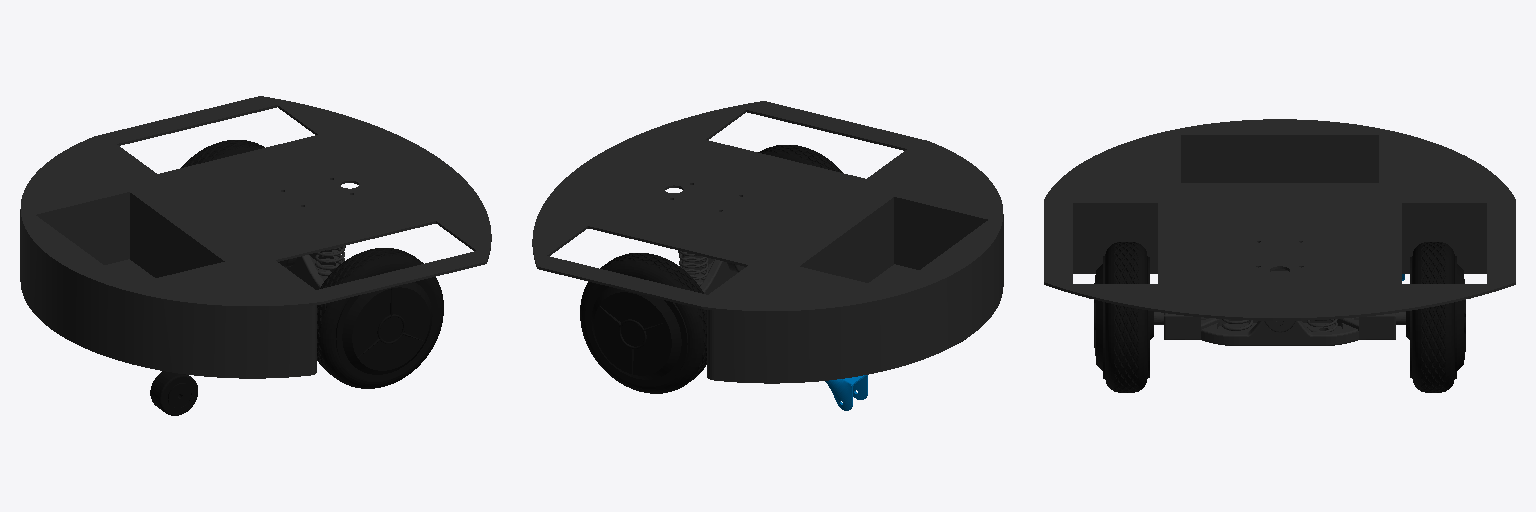
robot.urdf — Bobert:
<?xml version='1.0' ?>
<robot name="Bobert">

    <material name="grey">
        <color rgba="0.2 0.2 0.2 1"/>
    </material>

    <material name="green">
        <color rgba="0 0.6 0 0.7"/>
    </material>
    
    <material name="white">
        <color rgba="1 1 1 0.7"/>
    </material>

    <material name="Black">
        <color rgba="0.1 0.1 0.1 1"/>
    </material>

    
    <material name="orange">
        <color rgba="1 0.38 0.27 1"/>
    </material>


    <link name="base_link">
        <inertial>
            <origin xyz="-43.547e-03 -0.033e-03 -46.787e-03" rpy="0.0 0.0 0.0" />
            <mass value="11.793993" />
            <inertia ixx="1.697e-01" iyy="1.958e-01" izz="3.335e-01" ixy="49603.106e-9" iyz="-836.534e-09" ixz="-1.095e-02" />
        </inertial>
        <visual name="base_link_visual">
            <origin xyz="0.0 0.0 0.0" rpy="0.0 0.0 0.0" />
            <geometry>
                <mesh filename="../meshes/base_link.stl" scale="0.001 0.001 0.001" />
            </geometry>
            <material name="grey"/>
        </visual>
        <collision name="base_link_collision">
            <origin xyz="0.0 0.0 0.0" rpy="0.0 0.0 0.0" />
            <geometry>
                <mesh filename="../meshes/base_link.stl" scale="0.001 0.001 0.001" />
            </geometry>
        </collision>
    </link>


    <link name="wheel_left">
        <inertial>
            <origin xyz="0 0 -1.819e-03" rpy="0.0 -0.0 0.0" />
            <mass value="2911.821e-3" />
            <inertia ixx="3.948e-03" iyy="3.948e-03" izz="6.576e-03" ixy="-21.63e-09" iyz="0.131e-09" ixz="-0.705e-09" />
        </inertial>
        <visual name="wheel_left_visual">
            <origin xyz="0 0 0" rpy="0 0 0" />
            <geometry>
                <mesh filename="../meshes/wheel_left.stl" scale="0.001 0.001 0.001" />
            </geometry>
            <material name="Black"/>
        </visual>
        <collision name="wheel_left_collision">
            <origin xyz="0 0 0" rpy="0 0 0" />
            <geometry>
                <mesh filename="../meshes/wheel_left.stl" scale="0.001 0.001 0.001" />
            </geometry>
        </collision>
    </link>

    <link name="wheel_rigth">
        <inertial>
            <origin xyz="0 0 1.819e-3" rpy="0.0 -0.0 0.0" />
            <mass value="2.91188" />
            <inertia ixx="3.948e-03" iyy="3.948e-03" izz="6.576e-03" ixy="-11.421e-09" iyz="10.676e-09" ixz="9.896e-09" />
        </inertial>
        <visual name="wheel_rigth_visual">
            <origin xyz="0 0 0" rpy="0 0 0" />
            <geometry>
                <mesh filename="../meshes/wheel_rigth.stl" scale="0.001 0.001 0.001" />
            </geometry>
            <material name="Black"/>
        </visual>
        <collision name="wheel_rigth_collision">
            <origin xyz="0 0 0" rpy="0 0 0" />
            <geometry>
                <mesh filename="../meshes/wheel_rigth.stl" scale="0.001 0.001 0.001" />
            </geometry>
        </collision>
    </link>   
    
    <link name="rotatori_suport_left">
        <inertial>
            <origin xyz="16.428e-03 0 21.621e-03" rpy="0.0 -0.0 0.0" />
            <mass value="43.579e-03" />
            <inertia ixx="17929.773e-09" iyy="18956.841e-09" izz="23058.383e-09" ixy="-1.053e-09" iyz="0.047e-09" ixz="-5350.102e-09" />
        </inertial>
        <visual name="rotatori_suport_left_visual">
            <origin xyz="0 0 0" rpy="0 0 0" />
            <geometry>
                <mesh filename="../meshes/rotatory_suport_left.stl" scale="0.001 0.001 0.001" />
            </geometry>
        </visual>
        <collision name="rotatori_suport_left_collision">
            <origin xyz="0 0 0" rpy="0 0 0" />
            <geometry>
                <mesh filename="../meshes/rotatory_suport_left.stl" scale="0.001 0.001 0.001" />
            </geometry>
        </collision>
    </link> 

    <link name="rotatori_suport_rigth">
        <inertial>
            <origin xyz="16.428e-03 0 21.621e-03" rpy="0.0 0 0.0" />
            <mass value="43.579e-03" />
            <inertia ixx="17929.773e-09" iyy="18956.841e-09" izz="23058.383e-09" ixy="-1.053e-09" iyz="0.047e-09" ixz="-5350.102e-09" />
        </inertial>
        <visual name="rotatori_suport_rigth_visual">
            <origin xyz="0 0 0" rpy="0 0 0" />
            <geometry>
                <mesh filename="../meshes/rotatory_suport_rigth.stl" scale="0.001 0.001 0.001" />
            </geometry>
        </visual>
        <collision name="rotatori_suport_rigth_collision">
            <origin xyz="0 0 0" rpy="0 0 0" />
            <geometry>
                <mesh filename="../meshes/rotatory_suport_rigth.stl" scale="0.001 0.001 0.001" />
            </geometry>
        </collision>
    </link>


     <link name="road_left">
        <inertial>
            <origin xyz="0 0 0" rpy="0.0 -0.0 0.0" />
            <mass value="82.503e-03" />
            <inertia ixx="13380.147e-09" iyy="13380.149e-09" izz="17712.794" ixy="0" iyz="0" ixz="0" />
        </inertial>
        <visual name="road_left_visual">
            <origin xyz="0 0 0" rpy="0 0 0" />
            <geometry>
                <mesh filename="../meshes/road_left.stl" scale="0.001 0.001 0.001" />
            </geometry>
            <material name="Black"/>
        </visual>
        <collision name="road_left_collision">
            <origin xyz="0 0 0" rpy="0 0 0" />
            <geometry>
                <mesh filename="../meshes/road_left.stl" scale="0.001 0.001 0.001" />
            </geometry>
        </collision>
    </link>


    <link name="road_rigth">
        <inertial>
            <origin xyz="0 0 0" rpy="0.0 -0.0 0.0" />
            <mass value="82.503e-03" />
            <inertia ixx="13380.147e-09" iyy="13380.149e-09" izz="17712.794" ixy="0" iyz="0" ixz="0" />
        </inertial>
        <visual name="road_rigth_visual">
            <origin xyz="0 0 0" rpy="0 0 0" />
            <geometry>
                <mesh filename="../meshes/road_rigth.stl" scale="0.001 0.001 0.001" />
            </geometry>
            <material name="Black"/>
        </visual>
        <collision name="road_rigth_collision">
            <origin xyz="0 0 0" rpy="0 0 0" />
            <geometry>
                <mesh filename="../meshes/road_rigth.stl" scale="0.001 0.001 0.001" />
            </geometry>
        </collision>
    </link>




    <joint name="base_link_wheel_left_joint" type="continuous">
        <origin xyz="69.75e-03 -163.00e-03 -83.008e-3" rpy="-1.5707963267948968 0 0" />
        <parent link="base_link" />
        <child link="wheel_left" />
        <axis xyz="0 0 1" />
    </joint>

    <joint name="base_link_wheel_rigth_joint" type="continuous">
        <origin xyz="69.75e-03 163.00e-03 -83.008e-3" rpy="-1.5707963267948968 0 0" />
        <parent link="base_link" />
        <child link="wheel_rigth" />
        <axis xyz="0 0 1" />
    </joint>

    <joint name="base_link_rotatori_suport_left_joint" type="continuous">
        <origin xyz="-135e-03 -115e-03 -93e-03" rpy="0 3.141592653589793 0" />
        <parent link="base_link" />
        <child link="rotatori_suport_left" />
        <axis xyz="0 0 1" />
    </joint>

    <joint name="base_link_rotatori_suport_rigth_joint" type="continuous">
        <origin xyz="-135e-03 115e-03 -93e-03" rpy="0 3.141592653589793 0" />
        <parent link="base_link" />
        <child link="rotatori_suport_rigth" />
        <axis xyz="0 0 1" />
    </joint>

    <joint name="base_link_road_left_joint" type="continuous">
        <origin xyz="25e-03 0 45.5e-03" rpy="-1.5707963267948968 3.141592653589793 0" />
        <parent link="rotatori_suport_left" />
        <child link="road_left" />
        <axis xyz="0 0 1" />
    </joint>

    <joint name="base_link_road_rigth_joint" type="continuous">
        <origin xyz="25e-03 0 45.5e-03" rpy="-1.5707963267948968 3.141592653589793 0" />
        <parent link="rotatori_suport_rigth" />
        <child link="road_rigth" />
        <axis xyz="0 0 1" />
    </joint>


</robot>

--- Render facts (derived) ---
3 views of the same robot in one strip: view 1: azimuth 30°, elevation 25°; view 2: azimuth 150°, elevation 25°; view 3: azimuth 270°, elevation 25° (orthographic).
Robot: Bobert — 7 links, 6 joints (6 continuous); root link base_link; default pose: all joints at 0.
Links seen in each view (by area): view 1: base_link, wheel_left, road_left, wheel_rigth; view 2: base_link, wheel_rigth, wheel_left, rotatori_suport_rigth; view 3: base_link, wheel_rigth, wheel_left.
Link boxes in pixels (box(x1,y1,x2,y2)): base_link: box(20, 96, 491, 378); wheel_left: box(317, 248, 443, 388); road_left: box(150, 371, 197, 415); wheel_rigth: box(181, 140, 264, 167); base_link: box(532, 101, 1003, 383); wheel_rigth: box(580, 253, 706, 393); wheel_left: box(758, 145, 842, 172); rotatori_suport_rigth: box(825, 375, 867, 410); base_link: box(1044, 119, 1515, 345); wheel_rigth: box(1406, 242, 1465, 392); wheel_left: box(1094, 242, 1153, 392).
Bounding box of the posed robot: 0.4999 × 0.5 × 0.163 m (x, y, z).
5 mesh visuals loaded from 7 distinct referenced files (5 binary STL); not drawn: 2 (reference not matched to a file when rendering).
